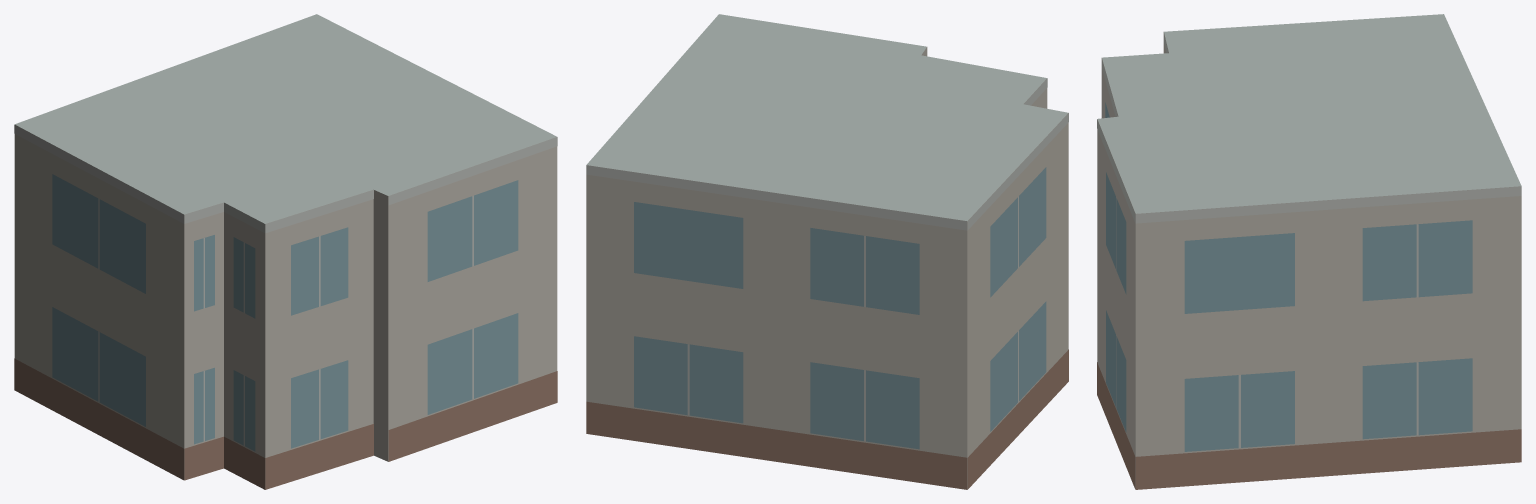
Rendered from survey-upis-32852074.glb.
3 renders of one model, left to right at view 1: azimuth 30°, elevation 25°; view 2: azimuth 150°, elevation 25°; view 3: azimuth 270°, elevation 25°, orthographic. The views are drawn at different scales.
Parts seen in each view (by area): view 1: survey-upis-32852074.tmp; view 2: survey-upis-32852074.tmp; view 3: survey-upis-32852074.tmp.
Boxes of the visible parts, left/top/right/bottom form: survey-upis-32852074.tmp: left=14, top=14, right=557, bottom=489; survey-upis-32852074.tmp: left=586, top=14, right=1068, bottom=489; survey-upis-32852074.tmp: left=1097, top=14, right=1521, bottom=489.
Bounding box in the file's own units: 10.72 × 6.9 × 9.63.
